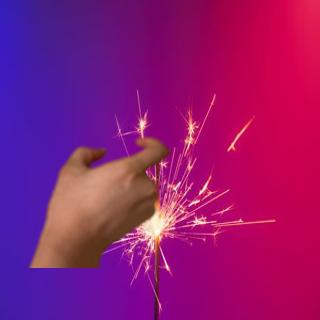HATE: (36, 130, 175, 260)
